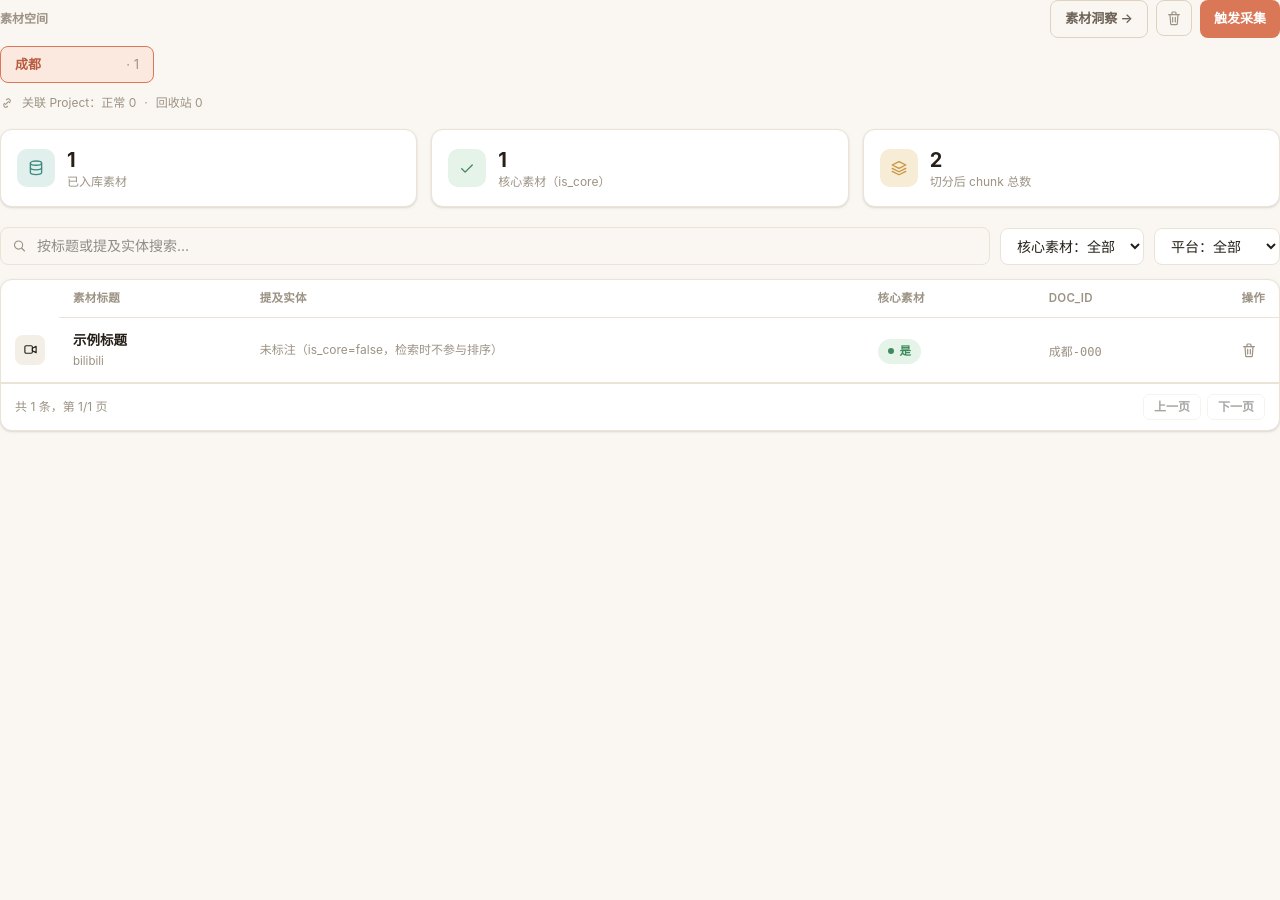
Scenario: MaterialsPage › opens the entry detail modal with chunk text and raw text when a row is clicked
Click the text "示例标题".
click(100, 340)  # box [73,330,127,351]
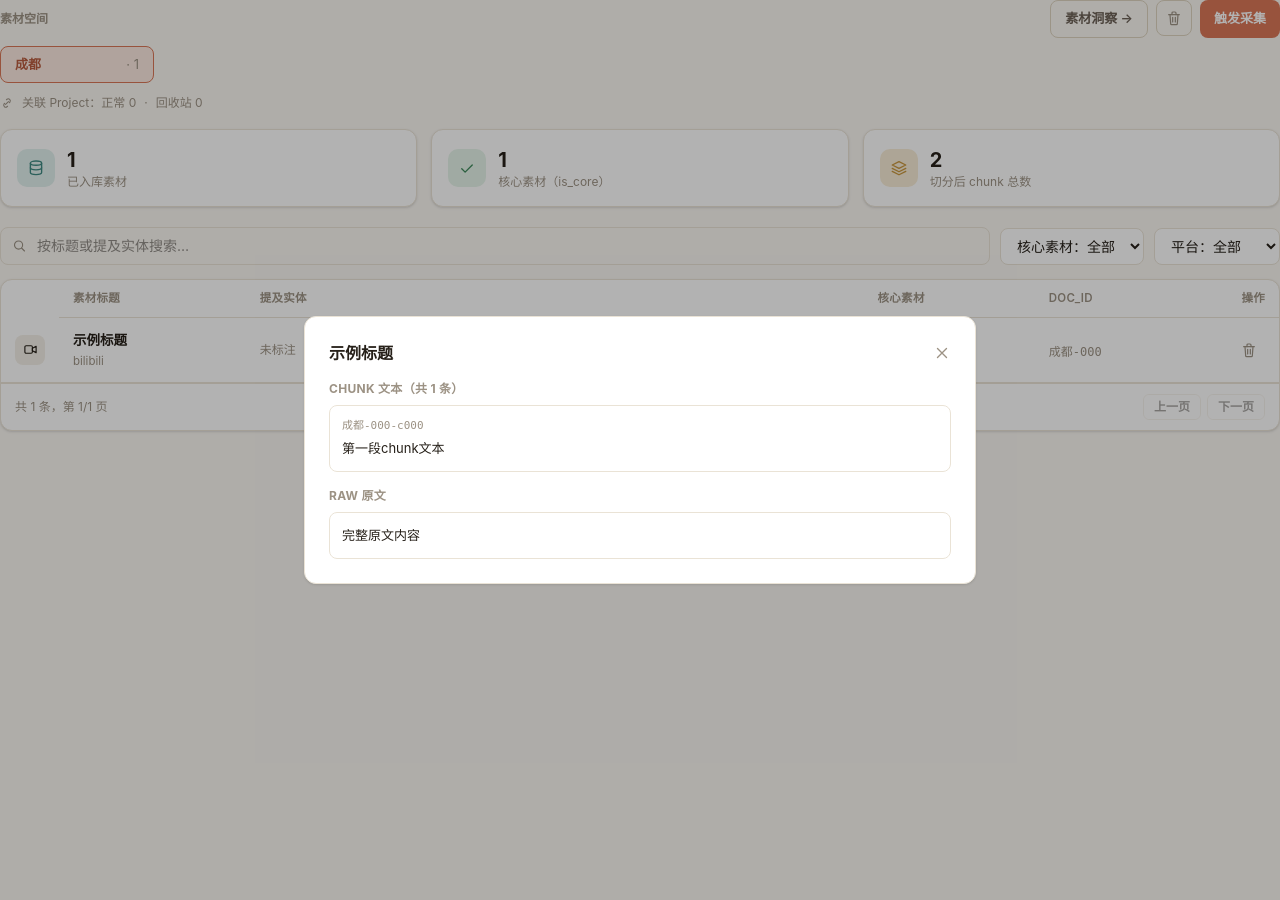
Expected: the dialog is shown
Expected: the text "第一段chunk文本" is shown, [342,440,445,456]
Expected: the text "完整原文内容" is shown, [329,512,951,559]
Click the button named "关闭".
click(942, 353)  # box [933,344,951,362]
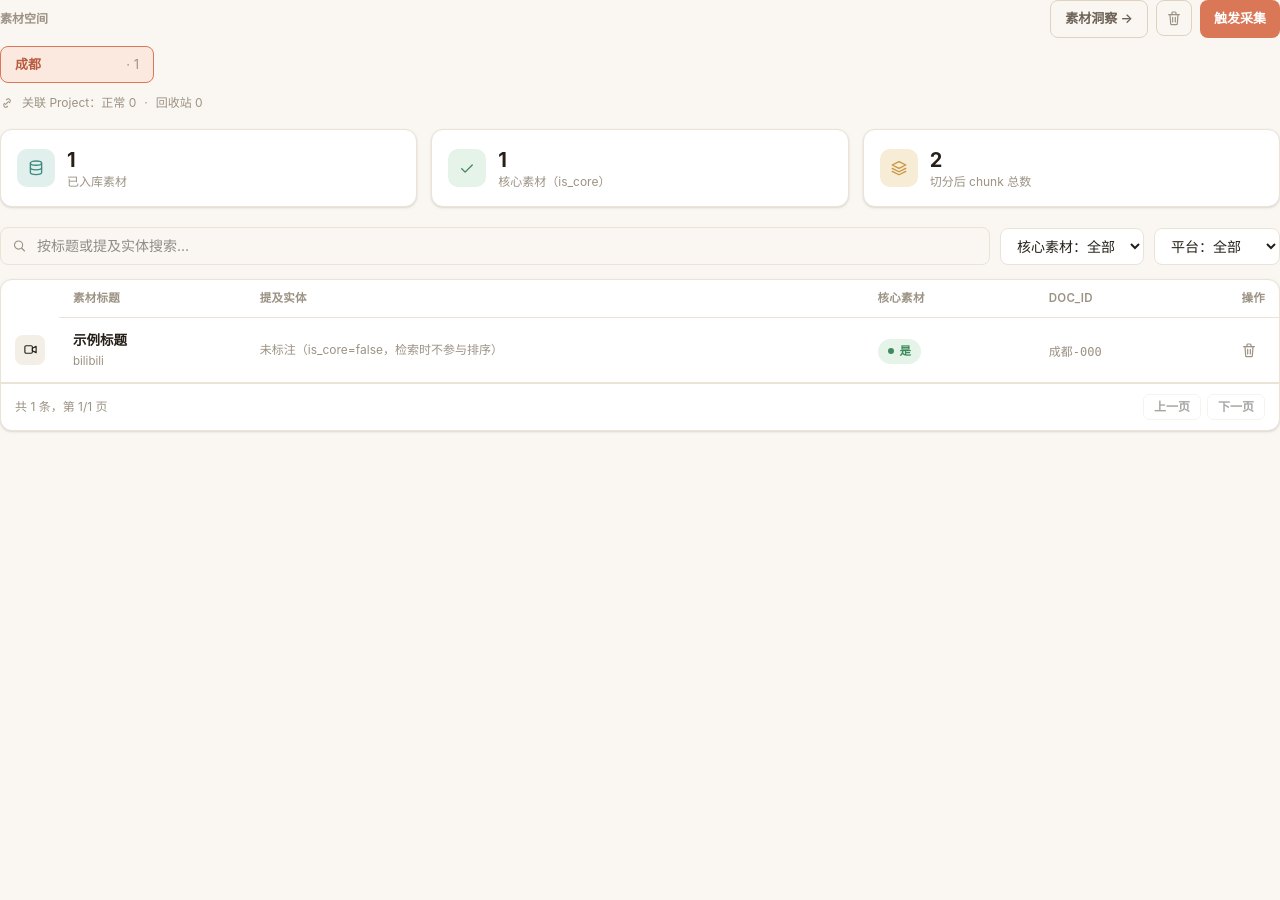
Expected: the dialog is gone
